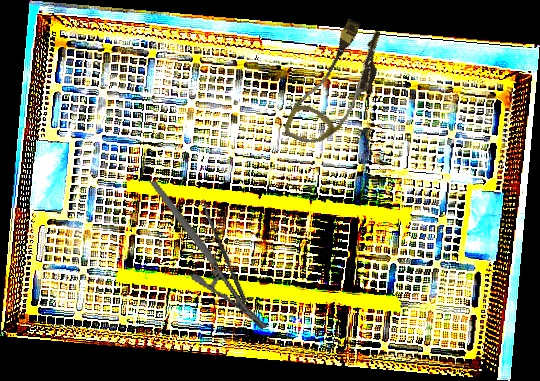Cannula: (281, 11, 393, 159)
Needle Holder: (149, 161, 269, 348)
Surgical Spoon: (199, 198, 249, 305)
